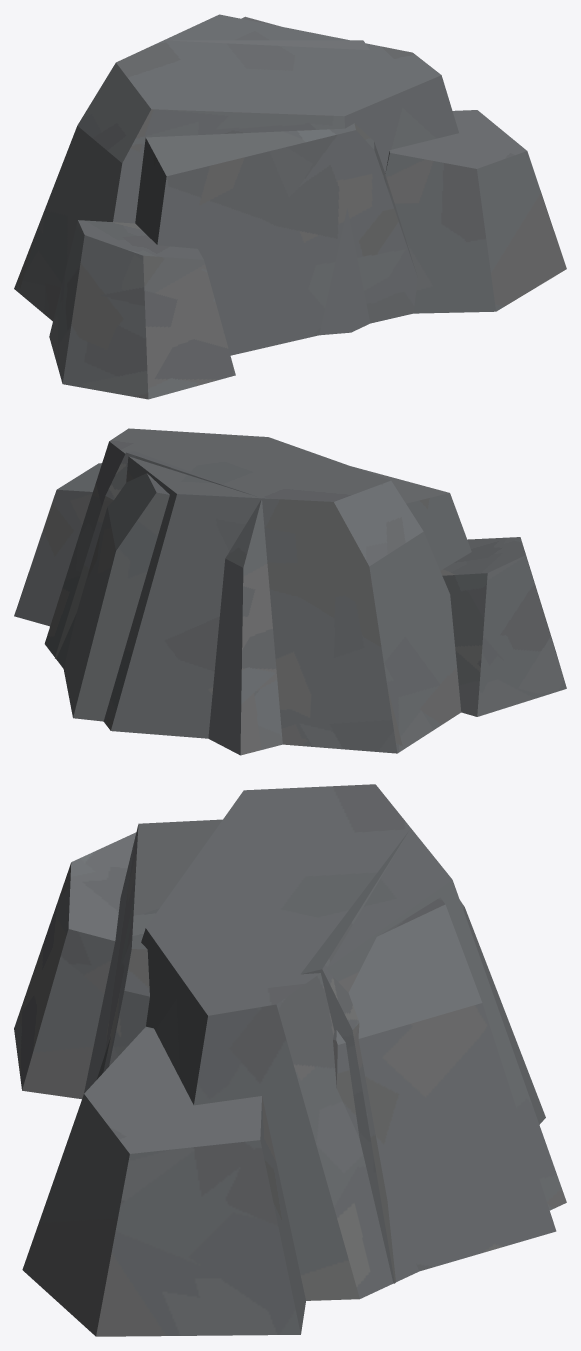
File: bouldermid.gltf
3 renders of one model, top to bottom at view 1: azimuth 30°, elevation 25°; view 2: azimuth 150°, elevation 25°; view 3: azimuth 270°, elevation 25°, orthographic. The views are drawn at different scales.
Parts seen in each view (by area): view 1: lod0; view 2: lod0; view 3: lod0.
Part boxes in pixels (x1,y1,x2,y2): lod0: (14,14,566,399); lod0: (14,428,566,755); lod0: (14,784,566,1336).
Size of what is drawn, in the model's own units: 1.93 by 0.8171 by 1.32.
1 material, 1 textured.
